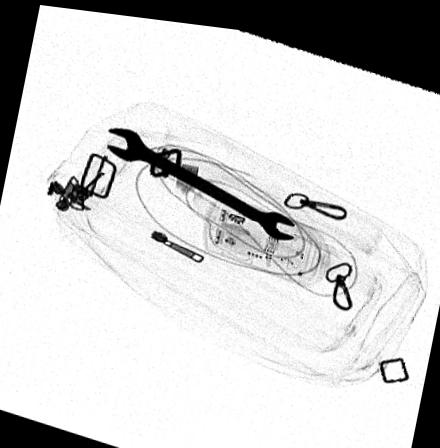Wrench: (107, 122, 299, 234)
